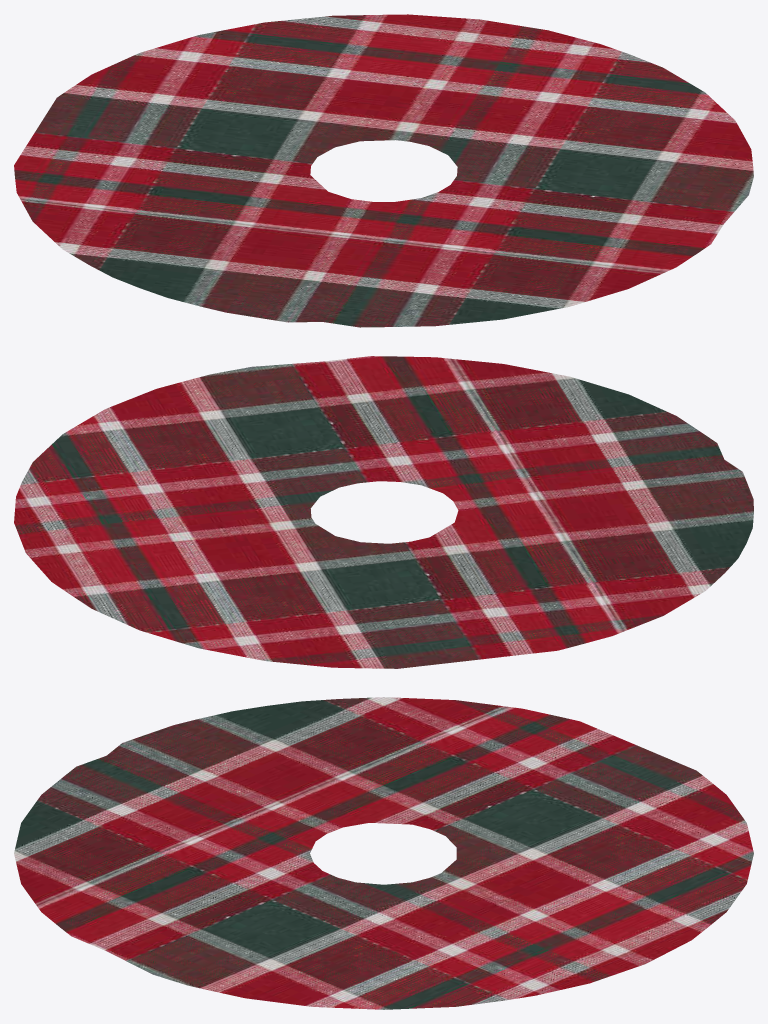
File: poncho_8K_mat.obj
3 renders of one model, top to bottom at view 1: azimuth 30°, elevation 25°; view 2: azimuth 150°, elevation 25°; view 3: azimuth 270°, elevation 25°, orthographic.
Parts seen in each view (by area): view 1: Poncho; view 2: Poncho; view 3: Poncho.
Part boxes in pixels (x1,y1,x2,y2): Poncho: [14, 14, 753, 327]; Poncho: [14, 356, 753, 668]; Poncho: [14, 697, 753, 1009].
Size of the model in its own units: 4 by 0 by 4.
